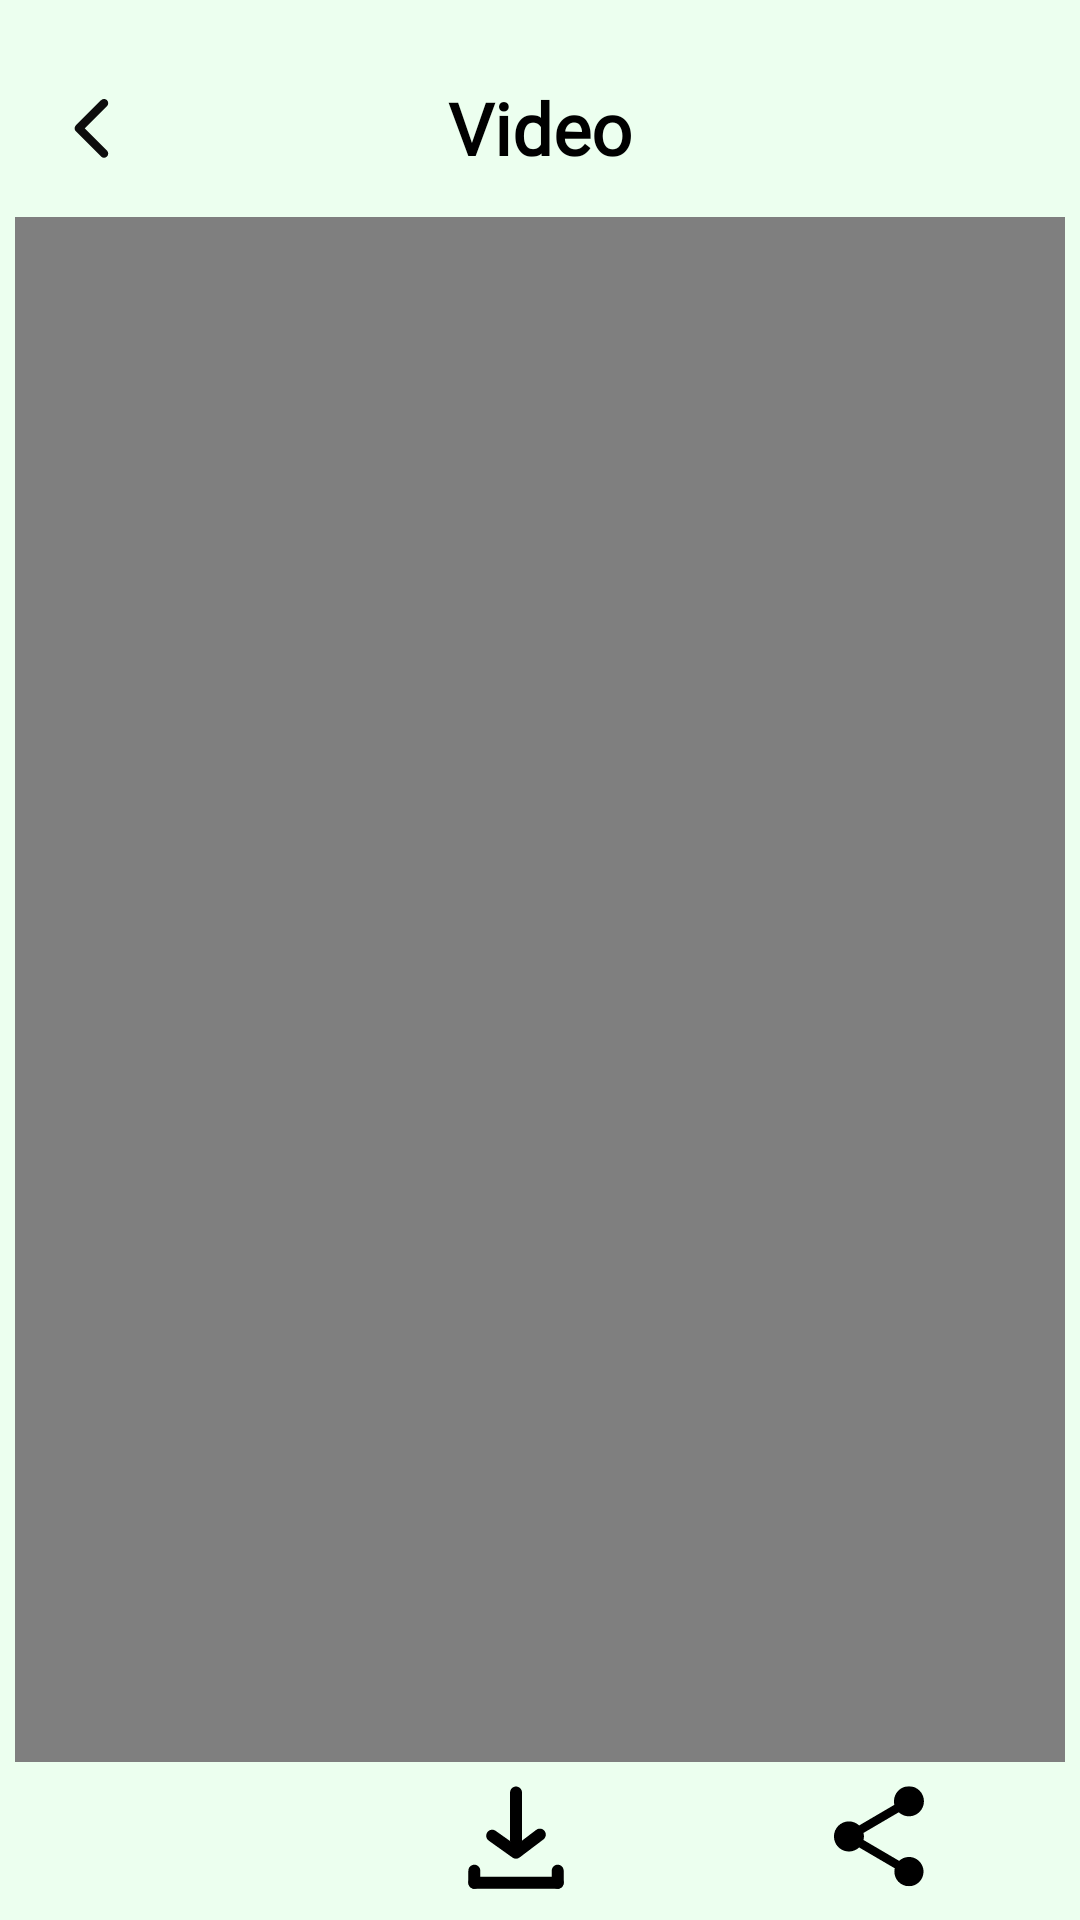

Icon click points for this 1080 x 1920 phone screenshot, format [x,y]:
Back Button: [91,128]
Download Button: [516,1837]
Share Button: [879,1836]
